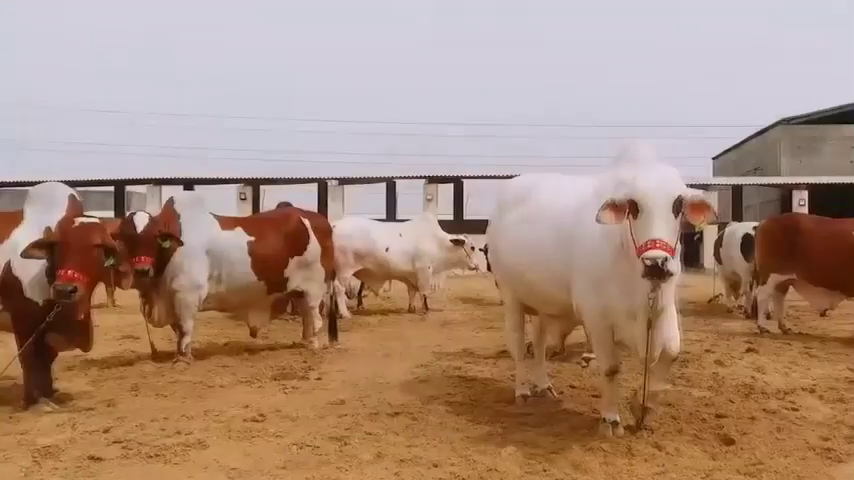bo: (490, 136, 720, 444), (113, 167, 336, 369), (2, 175, 122, 419), (329, 205, 482, 324), (747, 192, 854, 353), (716, 212, 758, 315)
